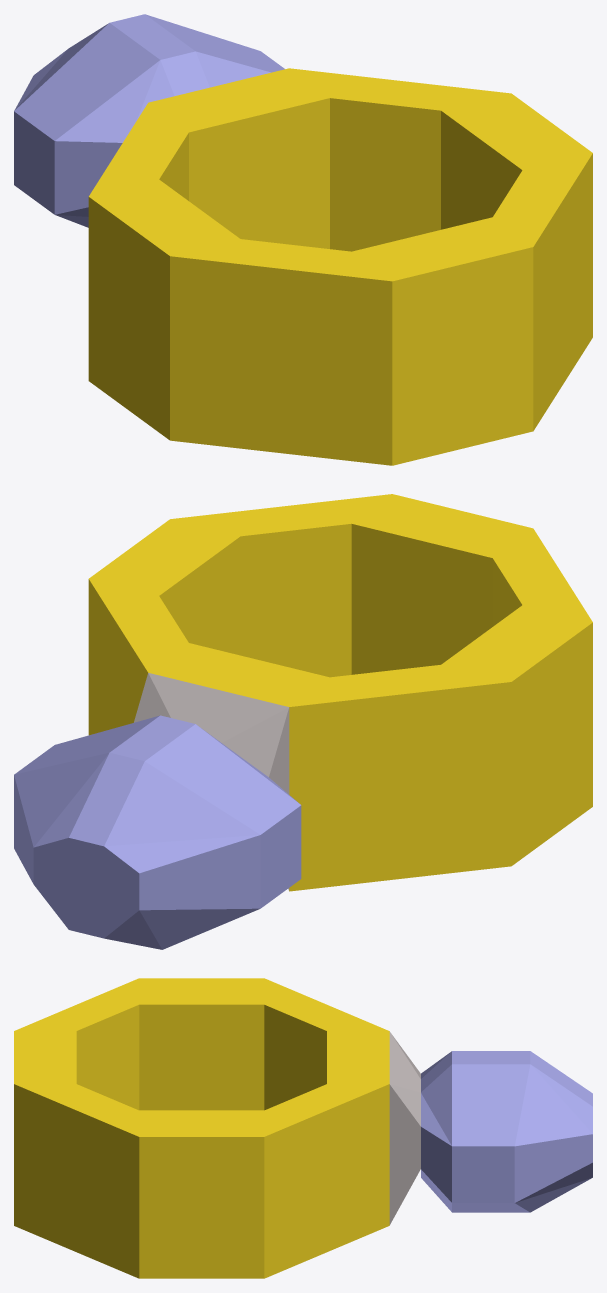
The model's file is slayer-ring.gltf.
3 renders of one model, top to bottom at view 1: azimuth 30°, elevation 25°; view 2: azimuth 150°, elevation 25°; view 3: azimuth 270°, elevation 25°, orthographic. The views are drawn at different scales.
Size of the model in its own units: 24 by 10 by 37.
Materials: 2 (2 with a texture image).
